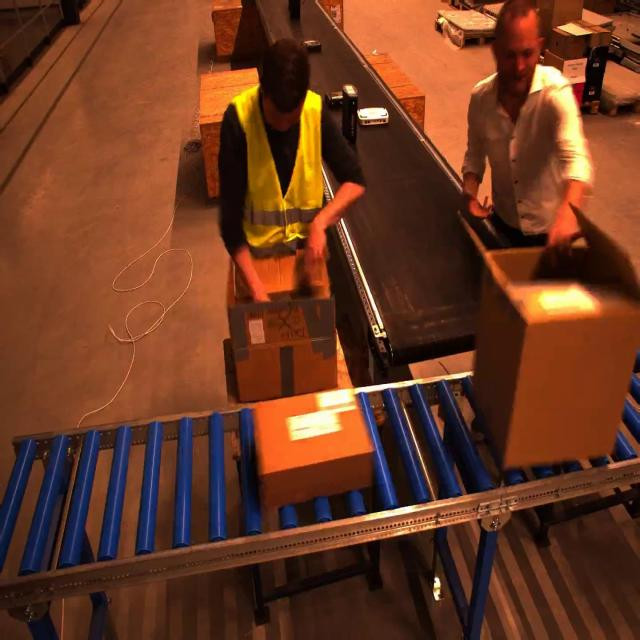box: (464, 228, 633, 469), (225, 251, 337, 402), (253, 391, 370, 511)
product: (341, 83, 359, 146), (356, 107, 388, 126), (325, 92, 343, 109), (302, 39, 321, 51)
